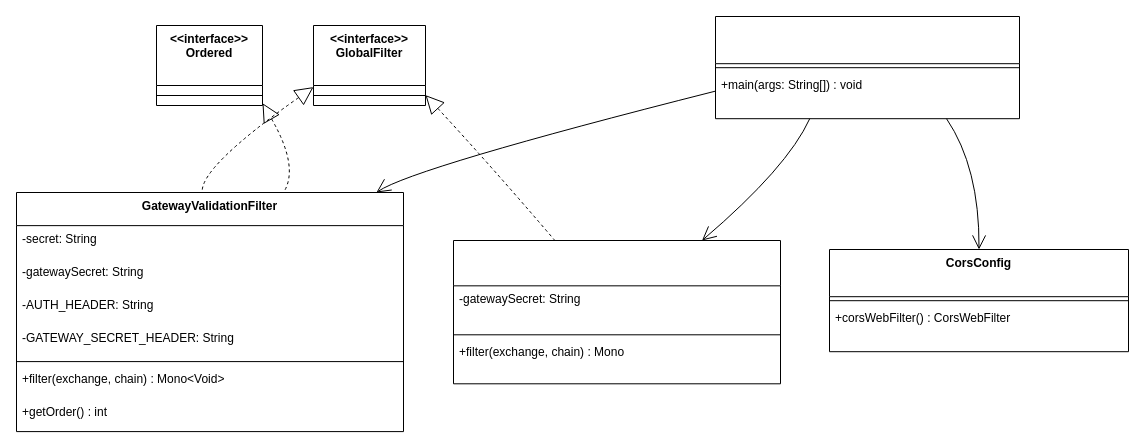
Some shapes in this 1145 by 448 pixel diagram are drawn without their labels. Here are the shapes that lost their labels. From the top down, the box of each, then its label:
(714, 16, 1020, 119): ApiGatewayApplication
(452, 240, 780, 384): GatewaySecretFilter
